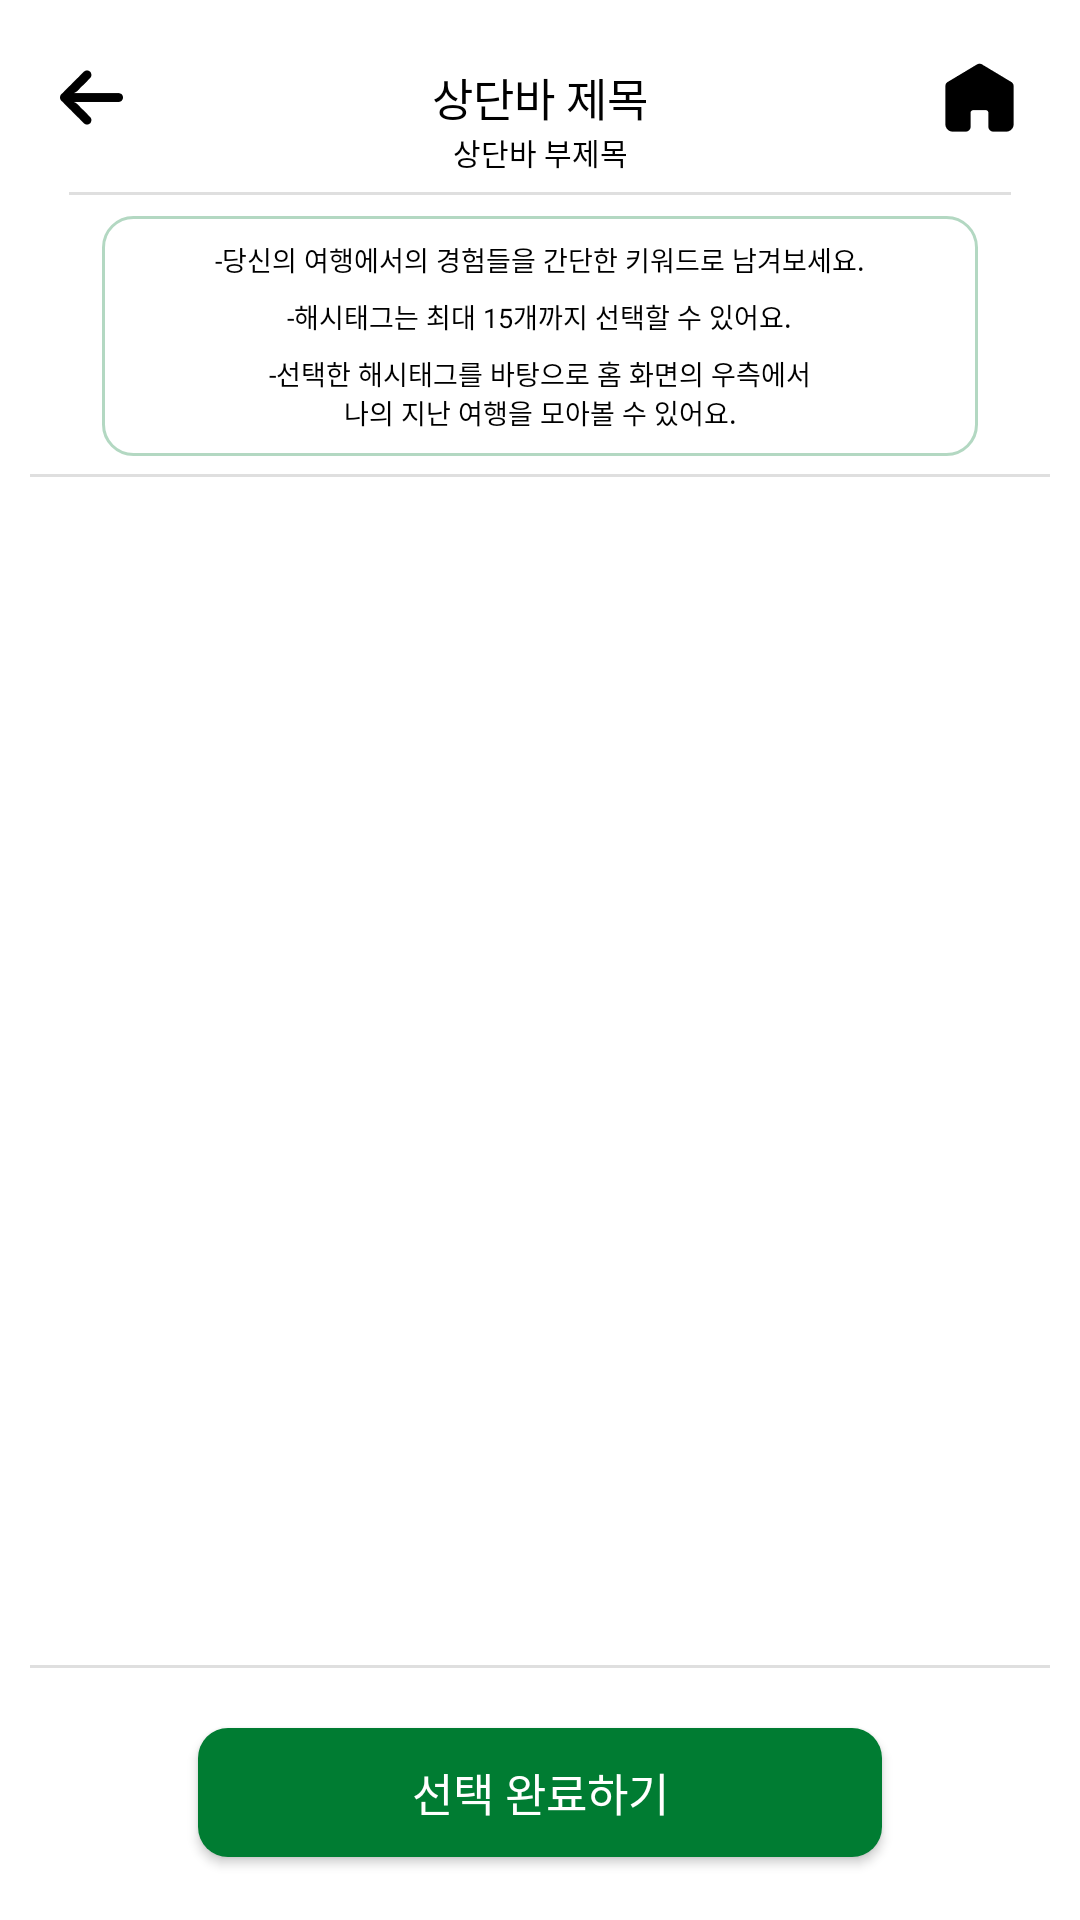

Icons on this 1080px×1920px Android screen, each with its box as BBox(x1, y1, x2, y2):
base back: BBox(60, 70, 123, 125)
base home: BBox(945, 63, 1014, 132)
